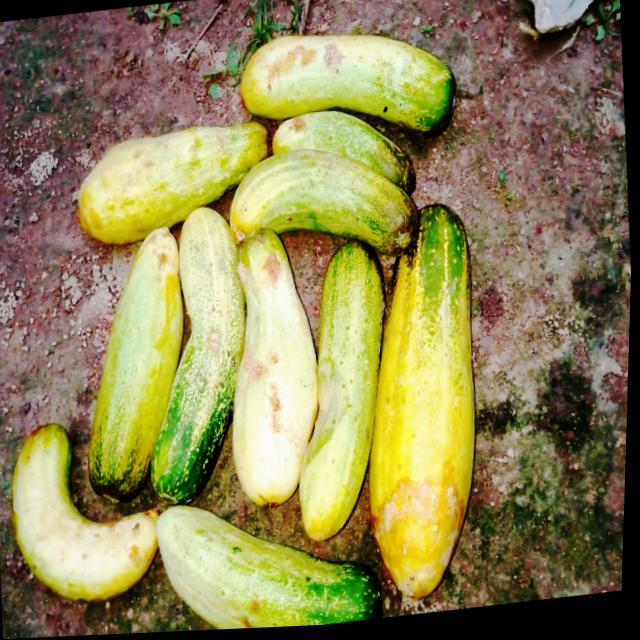Belly-Rot: (368, 455, 477, 601), (237, 339, 291, 452), (298, 355, 349, 469), (263, 40, 345, 94), (138, 226, 180, 287), (125, 517, 150, 586), (237, 598, 268, 631), (261, 249, 285, 289), (284, 111, 310, 142), (206, 323, 225, 360), (214, 129, 227, 153), (311, 149, 335, 160), (142, 153, 155, 169), (285, 215, 295, 227)
